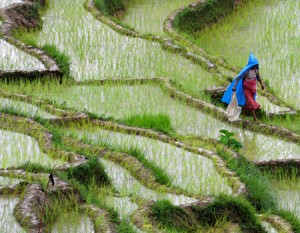human: (220, 46, 272, 126)
